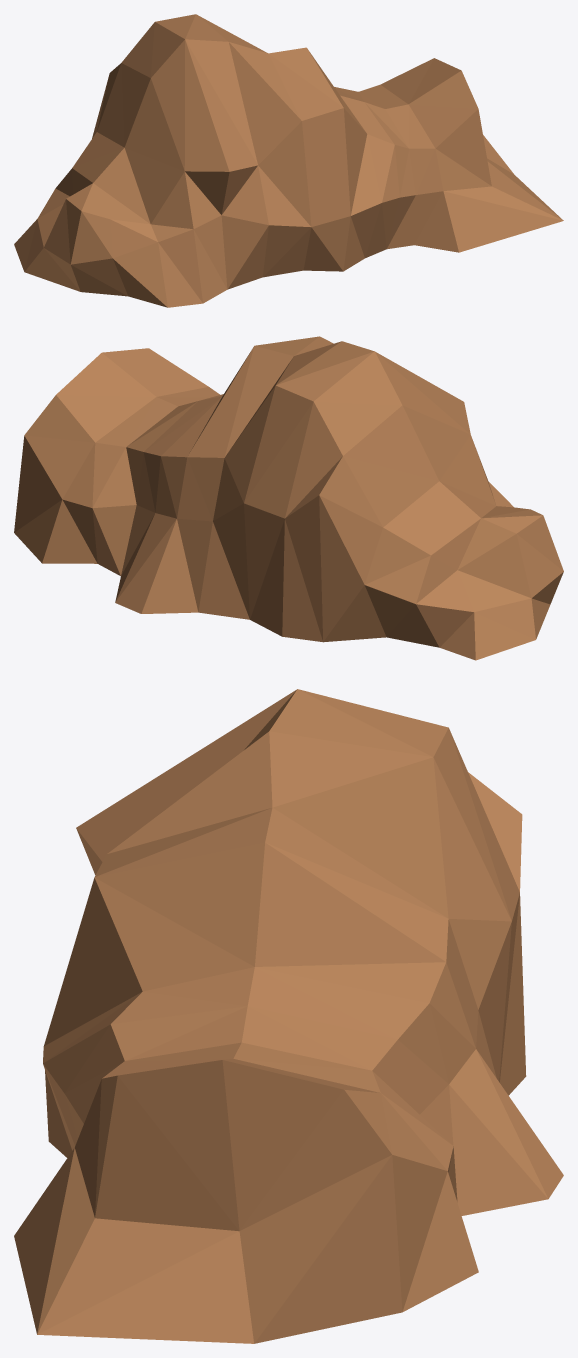
Rendered from Rock_17.fbx.
3 renders of one model, top to bottom at view 1: azimuth 30°, elevation 25°; view 2: azimuth 150°, elevation 25°; view 3: azimuth 270°, elevation 25°, orthographic. The views are drawn at different scales.
Parts seen in each view (by area): view 1: Rock_17; view 2: Rock_17; view 3: Rock_17.
Boxes of the visible parts, <box> form: Rock_17: <box>14,14,563,307</box>; Rock_17: <box>14,336,563,660</box>; Rock_17: <box>14,689,563,1343</box>.
Bounding box in the file's own units: 971 × 543 × 406.
